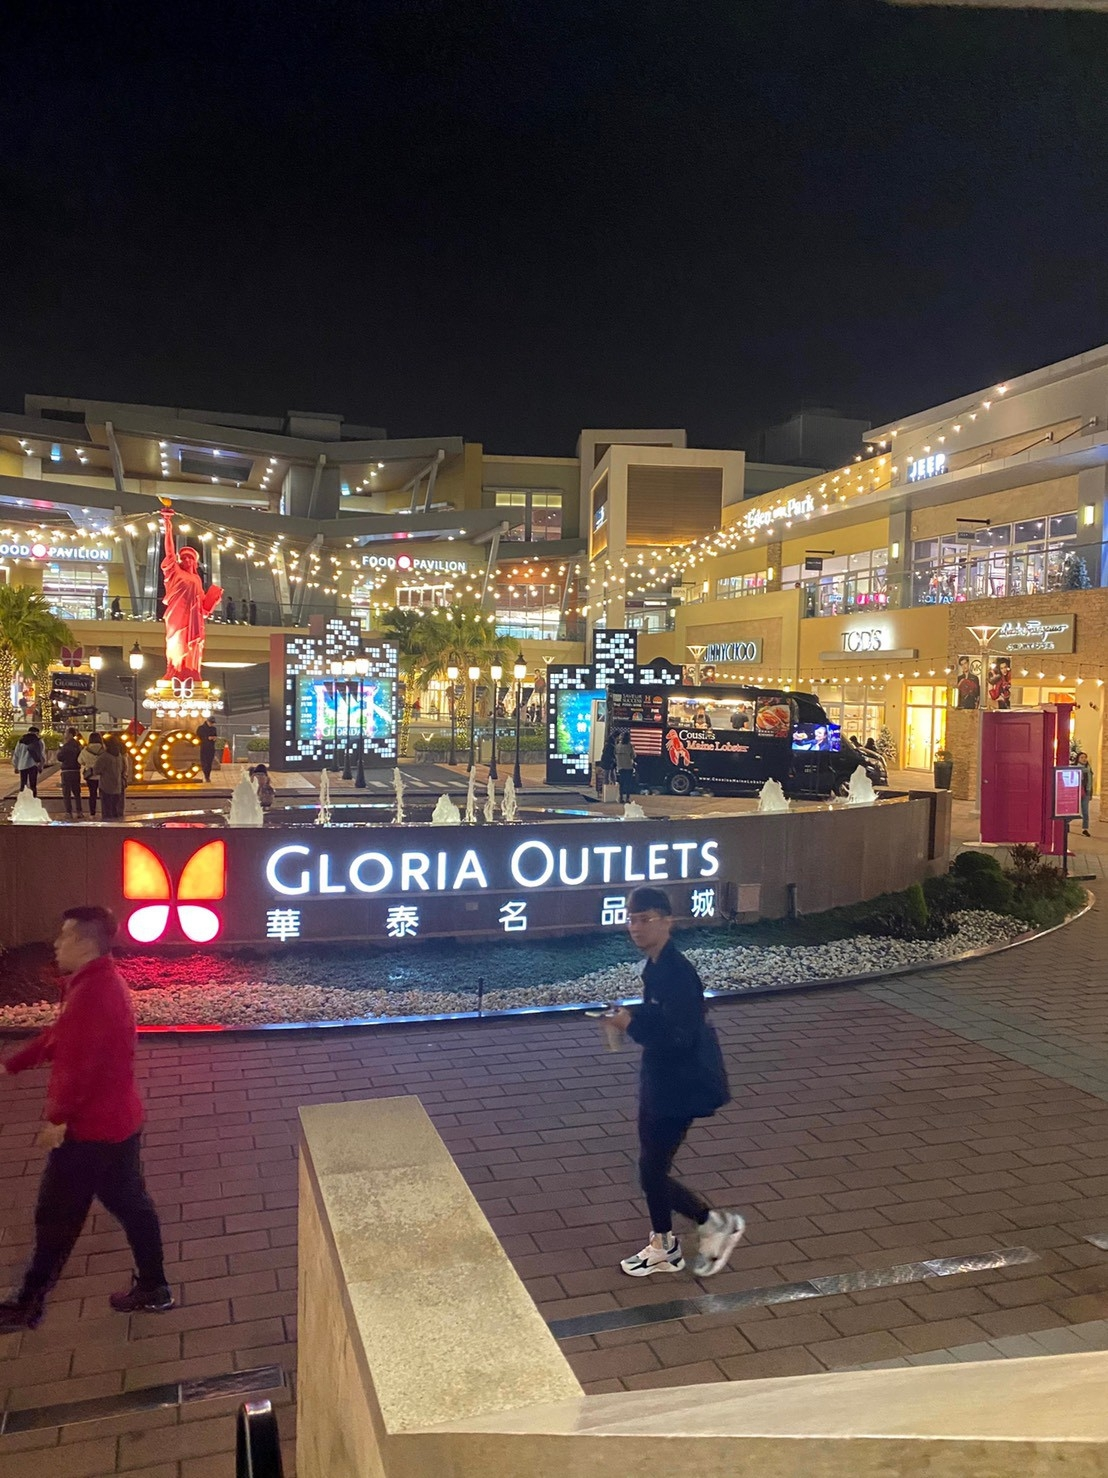people: (612, 893, 740, 1290), (40, 907, 150, 1297)
